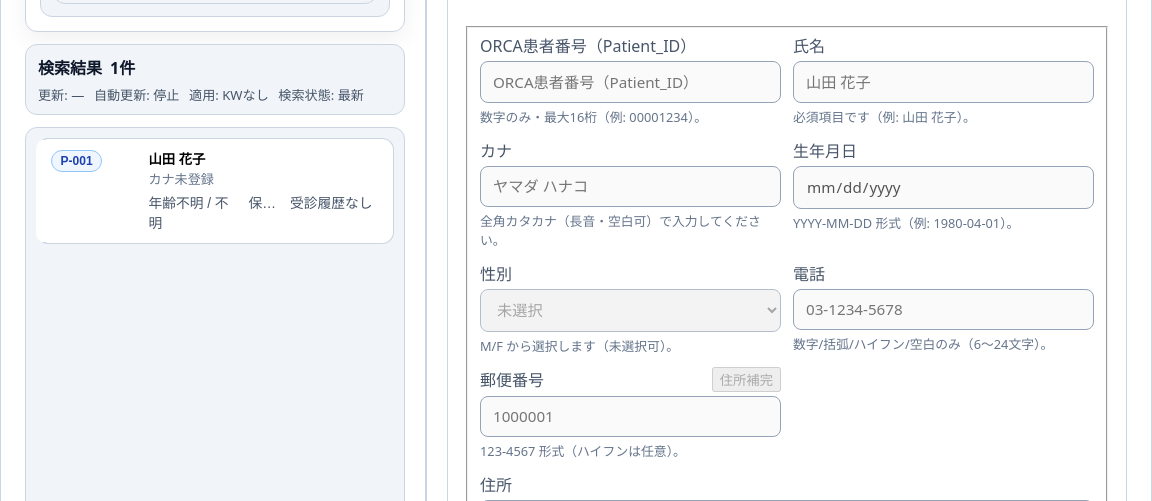
it: PatientsPage ORCA helpers › 郵便番号から住所補完できる
This screenshot has width=1152, height=501.
(page scrolled)
Click the button "P-001 山田 花子 カナ未登録 年齢不明 / 不明 保険未設定 受診履歴なし" at [77, 161], box [36, 138, 394, 244]
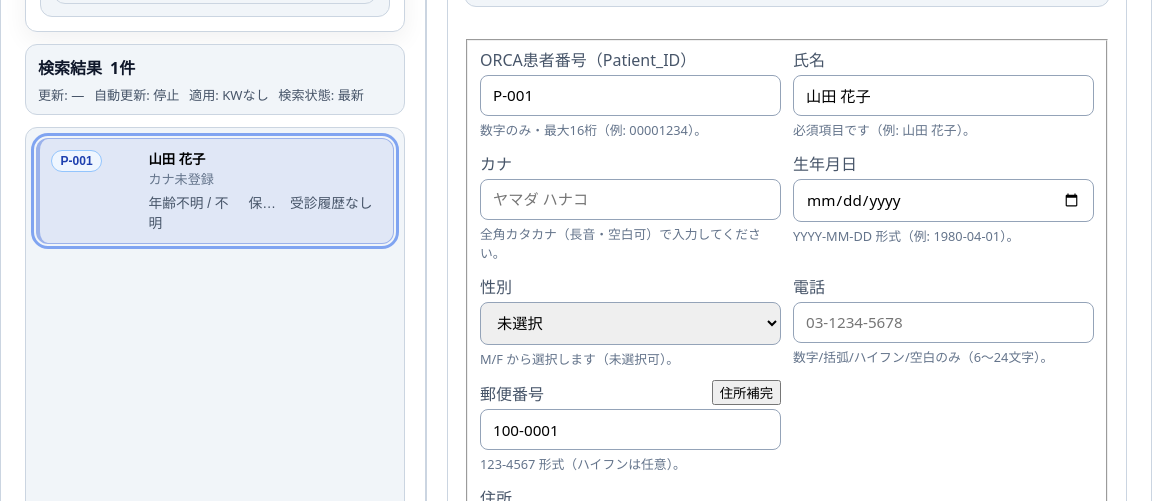
Click the button "住所補完" at [746, 393], box [712, 380, 781, 405]
(page scrolled)
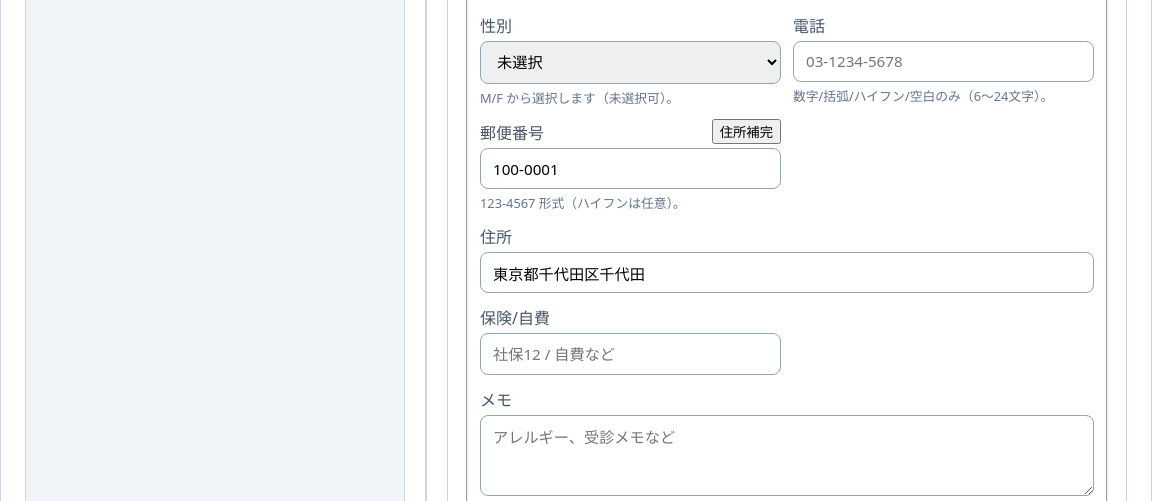
Result: the field showing "東京都千代田区千代田" is shown at [480, 252, 1094, 294]
